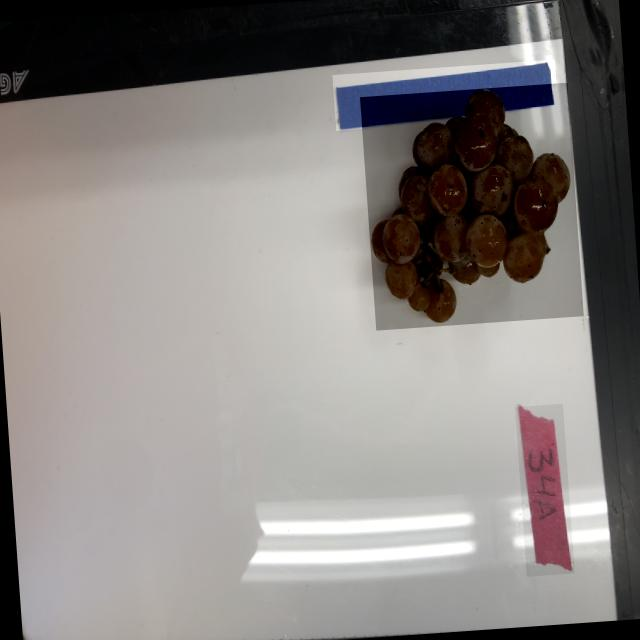grape_cluster: (358, 82, 582, 330)
index: (514, 404, 574, 576)
measure_label: (331, 60, 557, 131)
